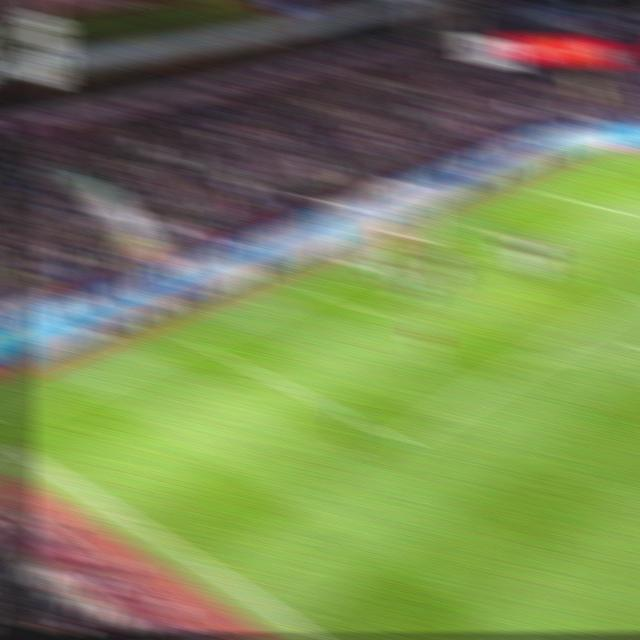bigarea_bottom_inner: (384, 426, 416, 454)
bigarea_bottom_outter: (180, 333, 208, 348)
bigarea_top_outter: (528, 184, 552, 197)
bottom_arc_area_intersection: (515, 349, 546, 369)
corner: (611, 150, 636, 161)
smallarea_bottom_inner: (356, 303, 386, 324)
smallarea_bottom_outter: (299, 279, 328, 297)
smallarea_top_outter: (453, 215, 480, 231)
